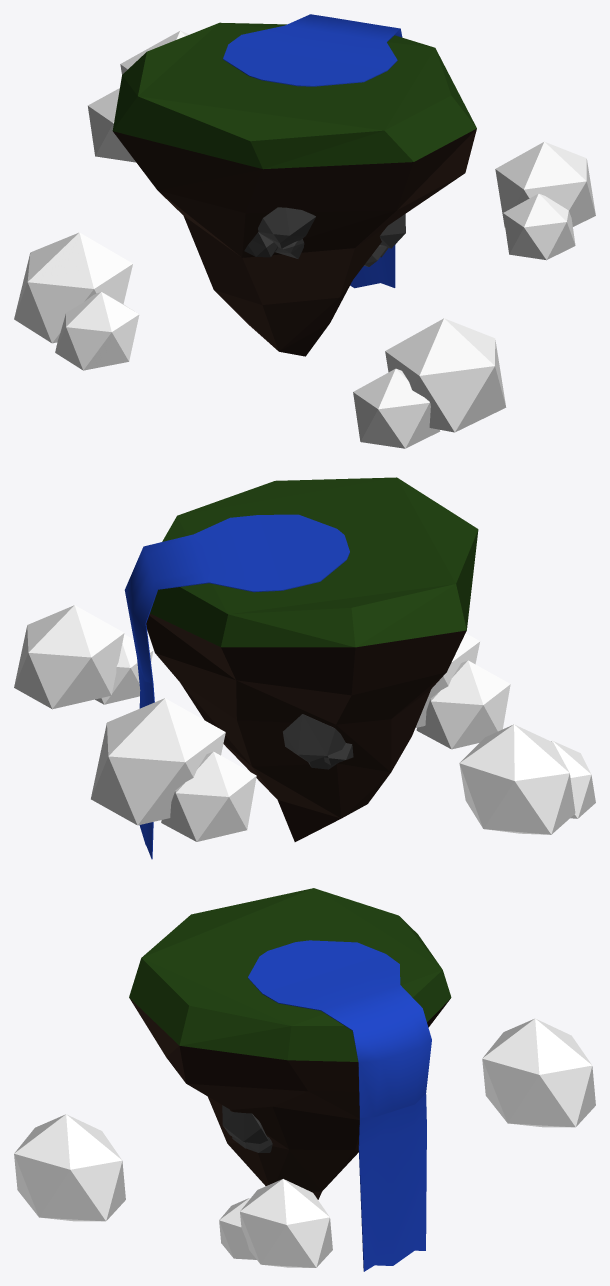
The model's file is FloatingIsland.FBX.
3 renders of one model, top to bottom at view 1: azimuth 30°, elevation 25°; view 2: azimuth 150°, elevation 25°; view 3: azimuth 270°, elevation 25°, orthographic. The views are drawn at different scales.
Visible parts, largest first — view 1: Box001, Plane001, GeoSphere014, GeoSphere018, GeoSphere015, GeoSphere017, GeoSphere013, GeoSphere016, GeoSphere012, GeoSphere005; view 2: Box001, Plane001, GeoSphere011, GeoSphere018, GeoSphere015, GeoSphere012, GeoSphere013, GeoSphere001, GeoSphere016, GeoSphere017, GeoSphere014; view 3: Box001, Plane001, GeoSphere011, GeoSphere014, GeoSphere015, GeoSphere016, GeoSphere009.
Part boxes in pixels (x1,y1,x2,y2): Box001: (112,22,476,356); Plane001: (223,14,402,288); GeoSphere014: (385,318,506,432); GeoSphere018: (14,232,132,343); GeoSphere015: (495,141,595,227); GeoSphere017: (55,292,139,370); GeoSphere013: (353,368,440,448); GeoSphere016: (503,193,575,260); GeoSphere012: (88,88,135,162); GeoSphere005: (258,207,315,249); Box001: (146,477,478,841); Plane001: (124,514,349,859); GeoSphere011: (91,698,225,825); GeoSphere018: (459,724,575,834); GeoSphere015: (14,605,124,709); GeoSphere012: (161,751,256,841); GeoSphere013: (416,660,510,749); GeoSphere001: (283,714,345,762); GeoSphere016: (95,634,153,704); GeoSphere017: (551,740,595,818); GeoSphere014: (415,633,479,727); Box001: (129,888,451,1199); Plane001: (248,940,431,1271); GeoSphere011: (482,1018,595,1127); GeoSphere014: (14,1114,125,1221); GeoSphere015: (240,1179,332,1267); GeoSphere016: (219,1198,256,1259); GeoSphere009: (222,1105,267,1143).
Size of the model in its own units: 57.21 by 29.72 by 57.94.
